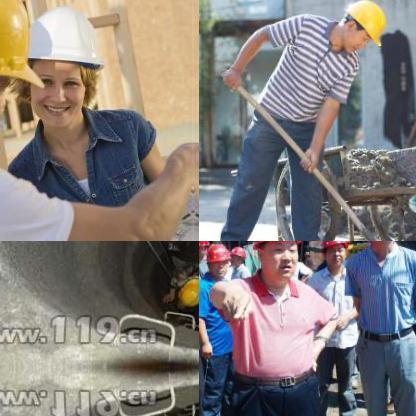Helmet: (19, 0, 108, 146), (0, 0, 55, 163), (329, 0, 389, 53), (242, 241, 299, 274), (319, 241, 348, 268), (175, 276, 198, 308), (206, 242, 226, 272), (228, 243, 246, 267), (199, 241, 206, 256)
